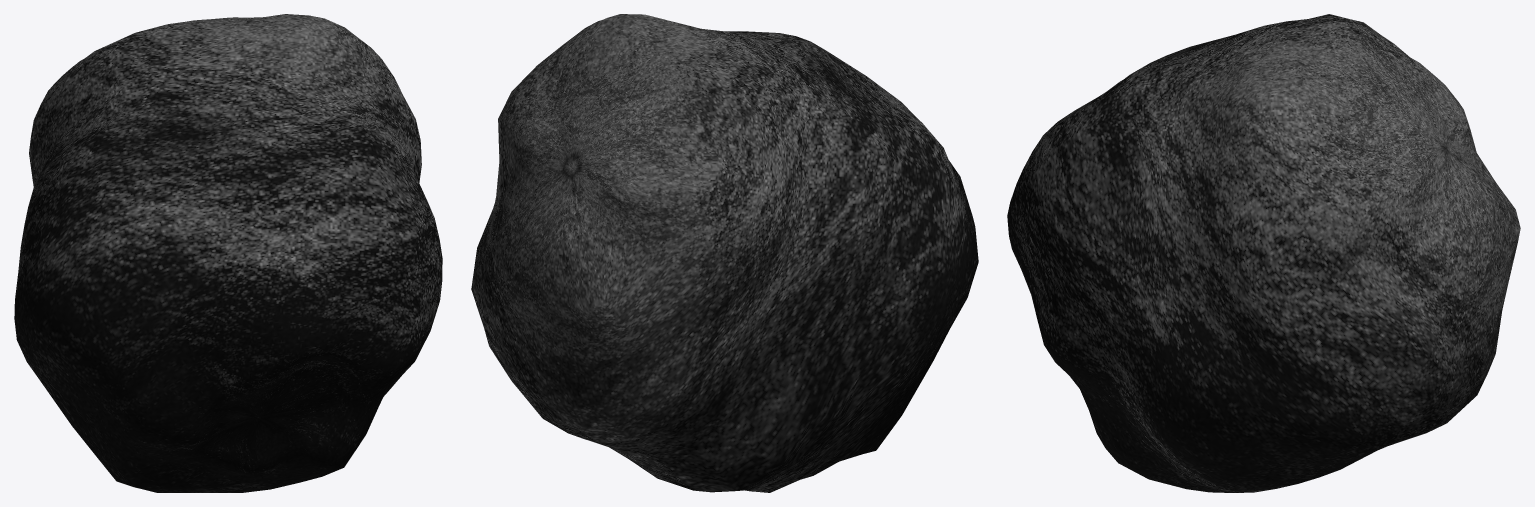
3 views of the same model, side by side, from view 1: azimuth 30°, elevation 25°; view 2: azimuth 150°, elevation 25°; view 3: azimuth 270°, elevation 25° (orthographic). The views are drawn at different scales.
Visible parts, largest first — view 1: prim0; view 2: prim0; view 3: prim0.
Boxes of the visible parts, x1,y1,x2,y2 form: prim0: (14, 14, 442, 492); prim0: (471, 14, 978, 492); prim0: (1007, 14, 1520, 492).
Size of the model in its own units: 1.88 by 1.85 by 1.97.
Materials: 1 (1 with a texture image).
